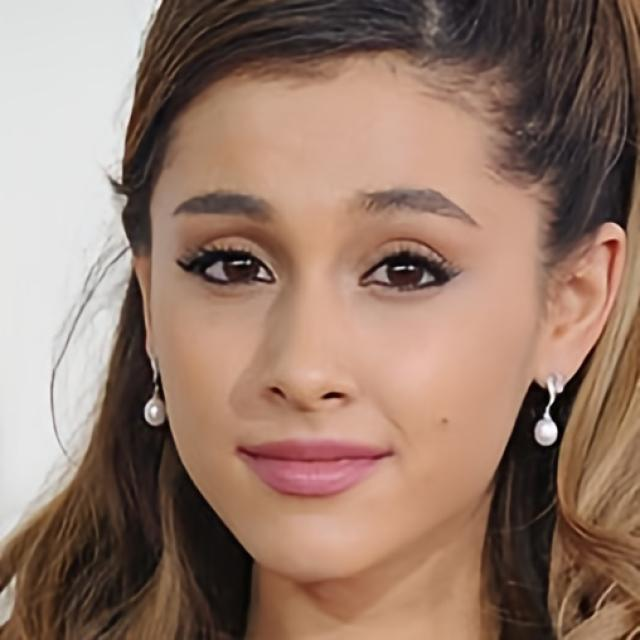content: (152, 36, 538, 584)
